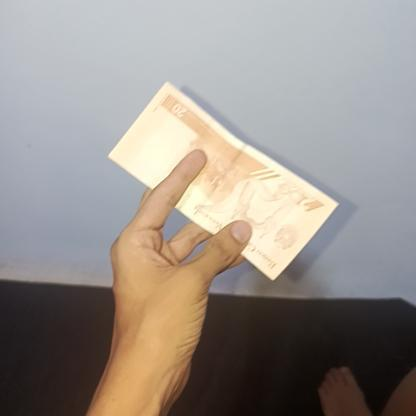twenty-back-vef: (105, 80, 338, 283)
